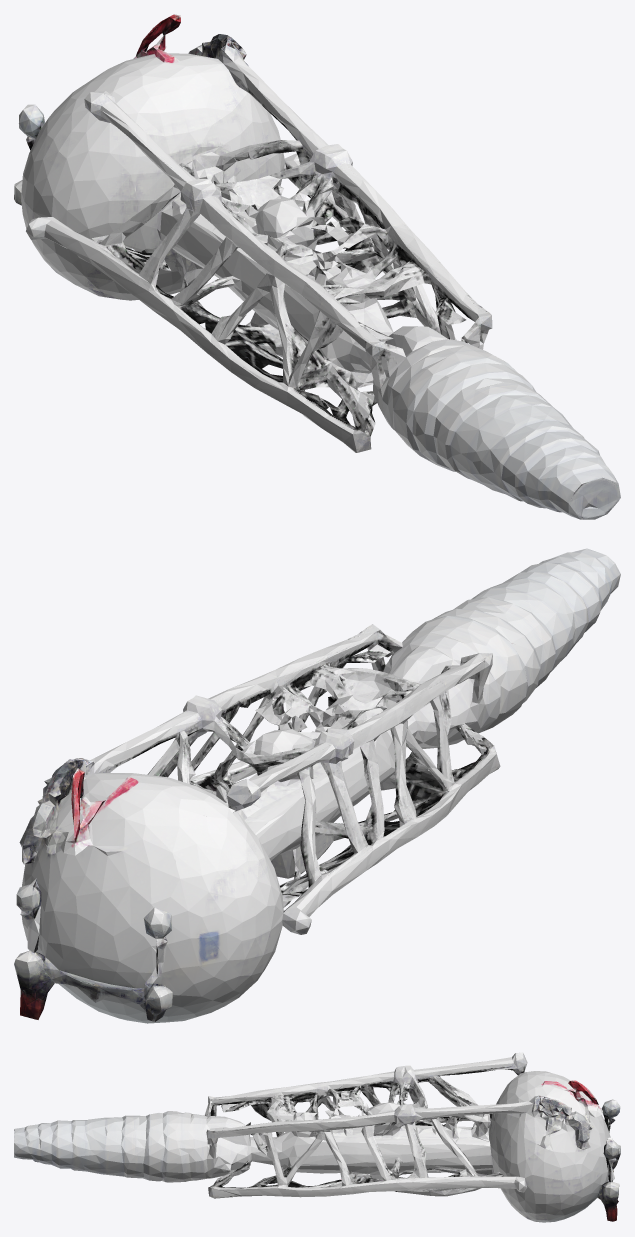
Rendered from article-model.glb.
The picture shows the model from 3 angles, top to bottom: view 1: azimuth 30°, elevation 25°; view 2: azimuth 150°, elevation 25°; view 3: azimuth 270°, elevation 25°; orthographic projection. The views are drawn at different scales.
Visible parts, largest first — view 1: world; view 2: world; view 3: world.
Part boxes in pixels (x1,y1,x2,y2): world: [14, 14, 620, 519]; world: [14, 548, 620, 1023]; world: [14, 1052, 620, 1222].
Bounding box in the file's own units: 0.3185 × 0.2688 × 0.9999.
Materials: 1 (1 with a texture image).
